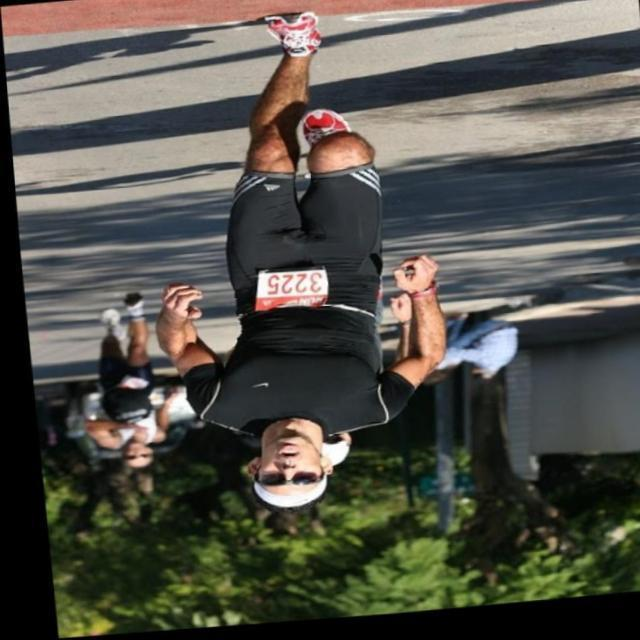dorsal: (243, 265, 328, 318)
